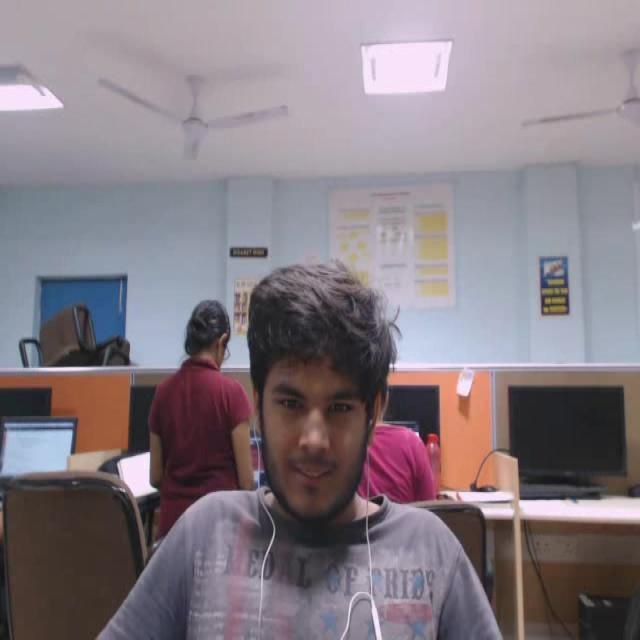Engaged: (238, 257, 414, 529)
